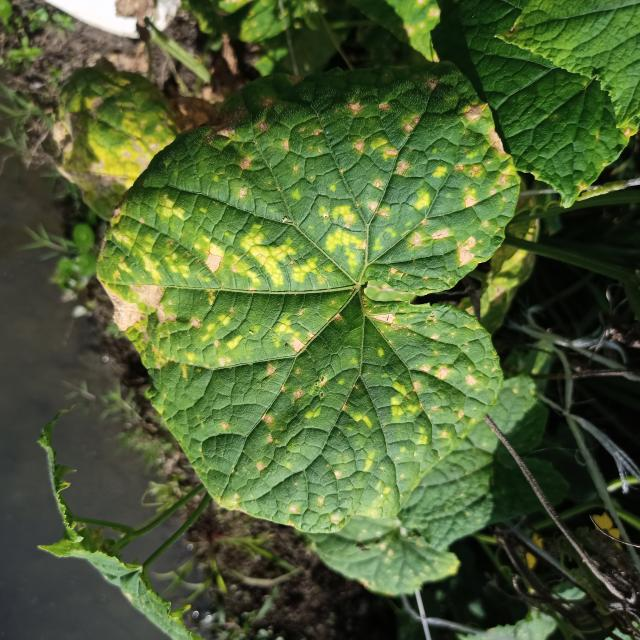disease_cucumber: (105, 67, 516, 502)
